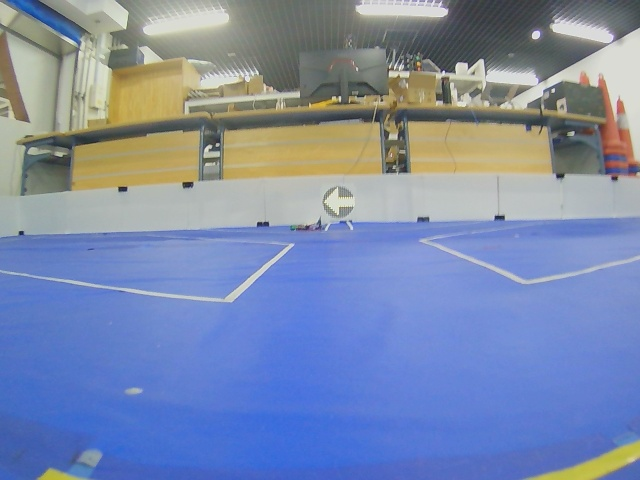left_yellow: (322, 186, 355, 218)
